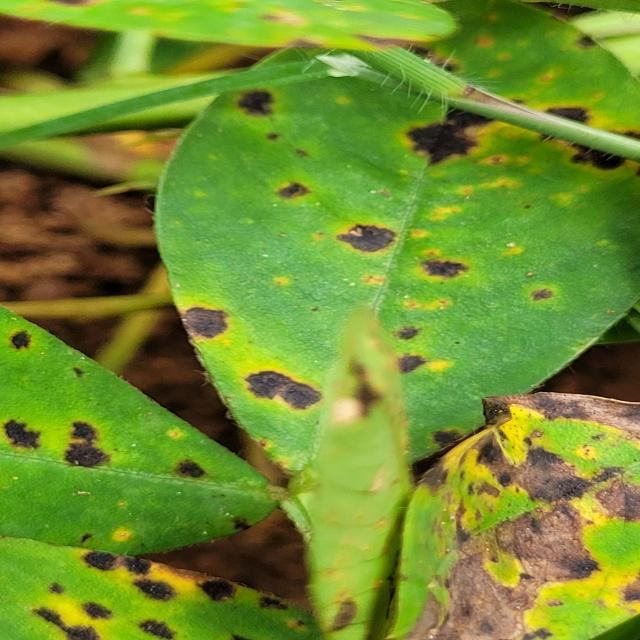Ground nut_tikka leaf spot: (139, 2, 640, 481)
